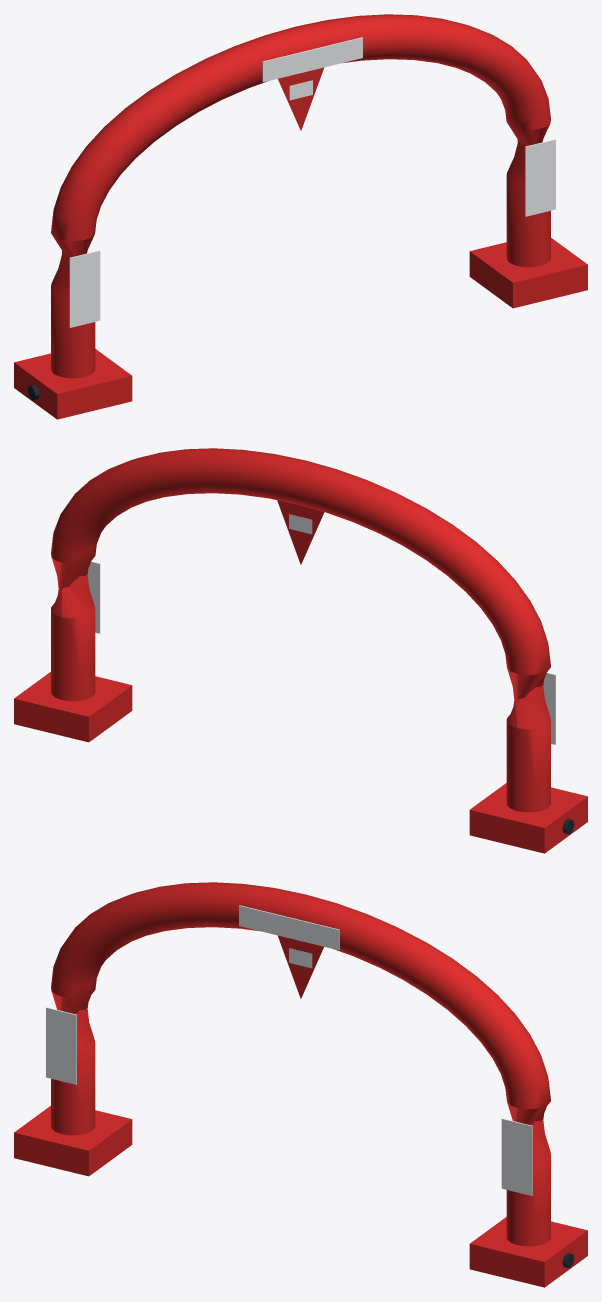
Rendered from arch_flamme_rouge.glb.
3 renders of one model, top to bottom at view 1: azimuth 30°, elevation 25°; view 2: azimuth 150°, elevation 25°; view 3: azimuth 330°, elevation 25°, orthographic.
Visible parts, largest first — view 1: Arch_Flamme_Rouge; view 2: Arch_Flamme_Rouge; view 3: Arch_Flamme_Rouge.
Boxes of the visible parts, bbox=[...] form: Arch_Flamme_Rouge: bbox=[14, 14, 587, 419]; Arch_Flamme_Rouge: bbox=[14, 448, 587, 853]; Arch_Flamme_Rouge: bbox=[14, 882, 587, 1287].
Size of the model in its own units: 9.7 by 5.35 by 1.35.
